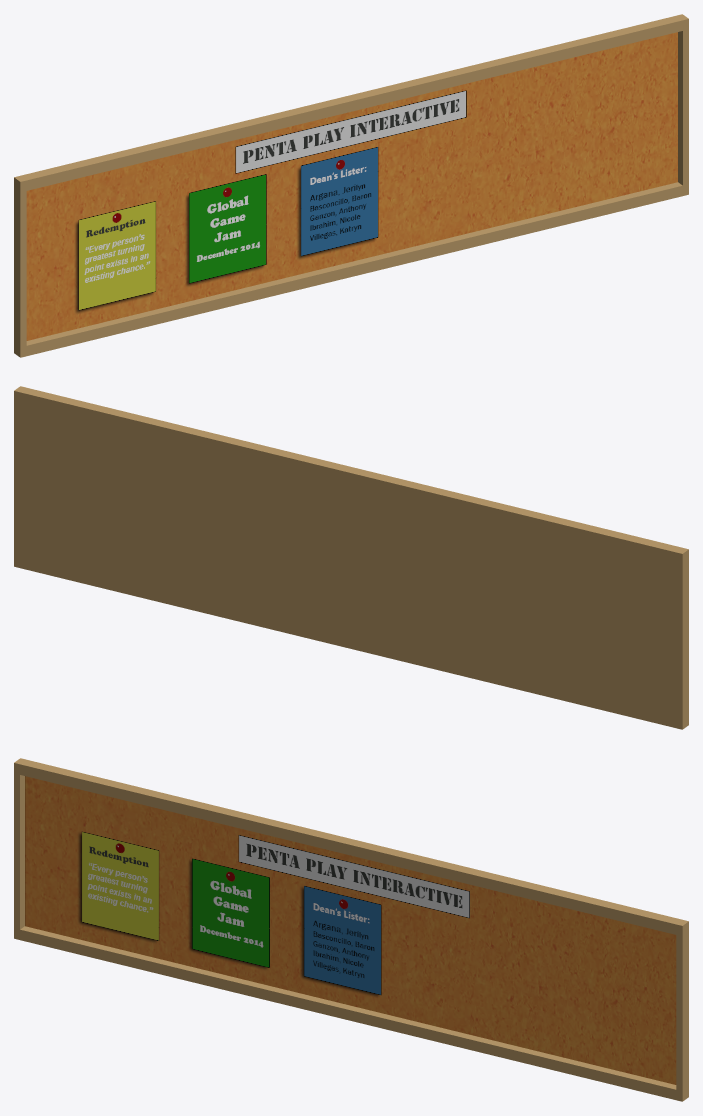
Rendered from Bulletin.fbx.
3 views of the same model, one above another, from view 1: azimuth 30°, elevation 25°; view 2: azimuth 150°, elevation 25°; view 3: azimuth 330°, elevation 25° (orthographic).
Parts seen in each view (by area): view 1: Bulletin; view 2: Bulletin; view 3: Bulletin.
Part boxes in pixels (box(x1,y1,x2,y2)): Bulletin: box(14, 14, 688, 357); Bulletin: box(14, 386, 688, 729); Bulletin: box(14, 758, 688, 1101).
Bounding box in the file's own units: 596 × 150 × 9.92.
2 materials, 1 textured.
